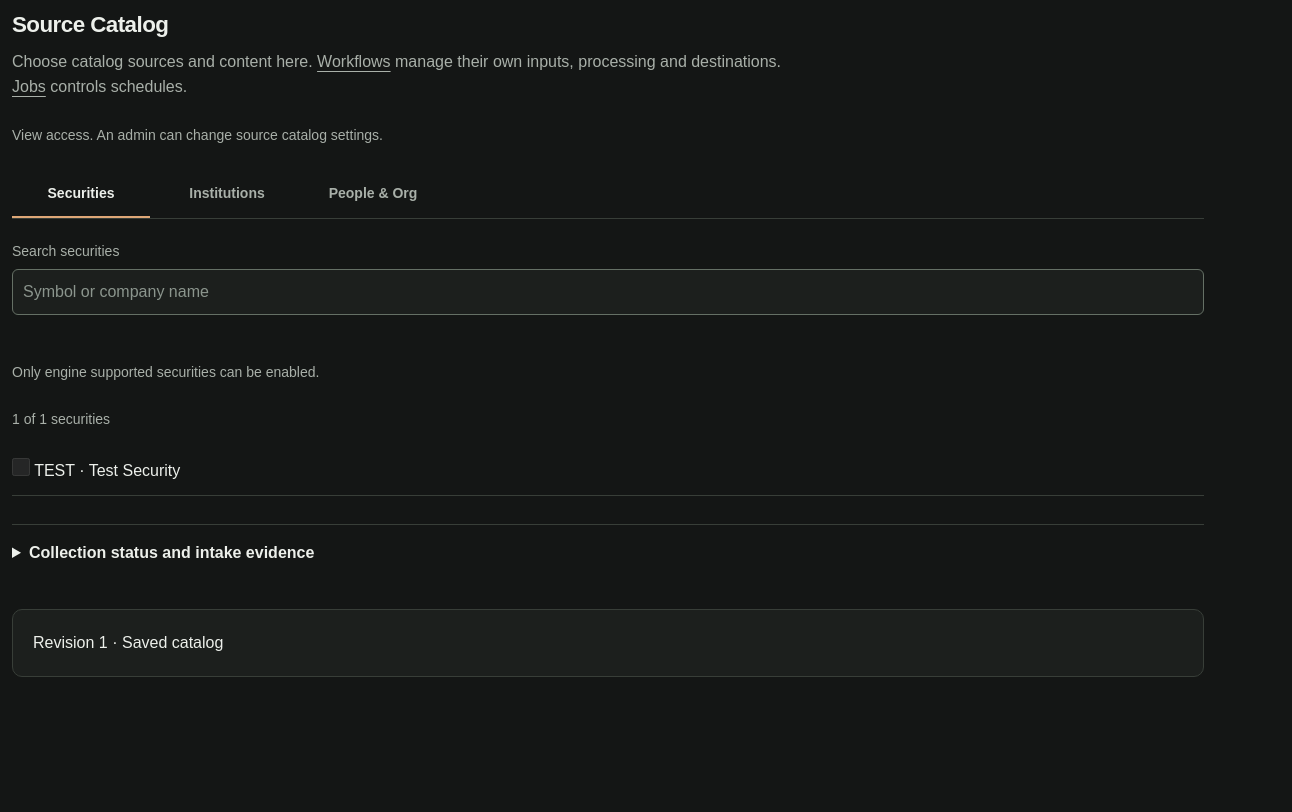
Scenario: SourceCatalogView › renders backend-confirmed viewers without mutation controls
This screenshot has width=1292, height=812.
Expected: the text "View access. An admin can change source catalog settings." is shown, [12,127,383,143]
Expected: the checkbox labelled "TEST · Test Security" is disabled, [12,458,30,476]
Click the tab "People & Org" at (373, 194), box [304,170,442,218]
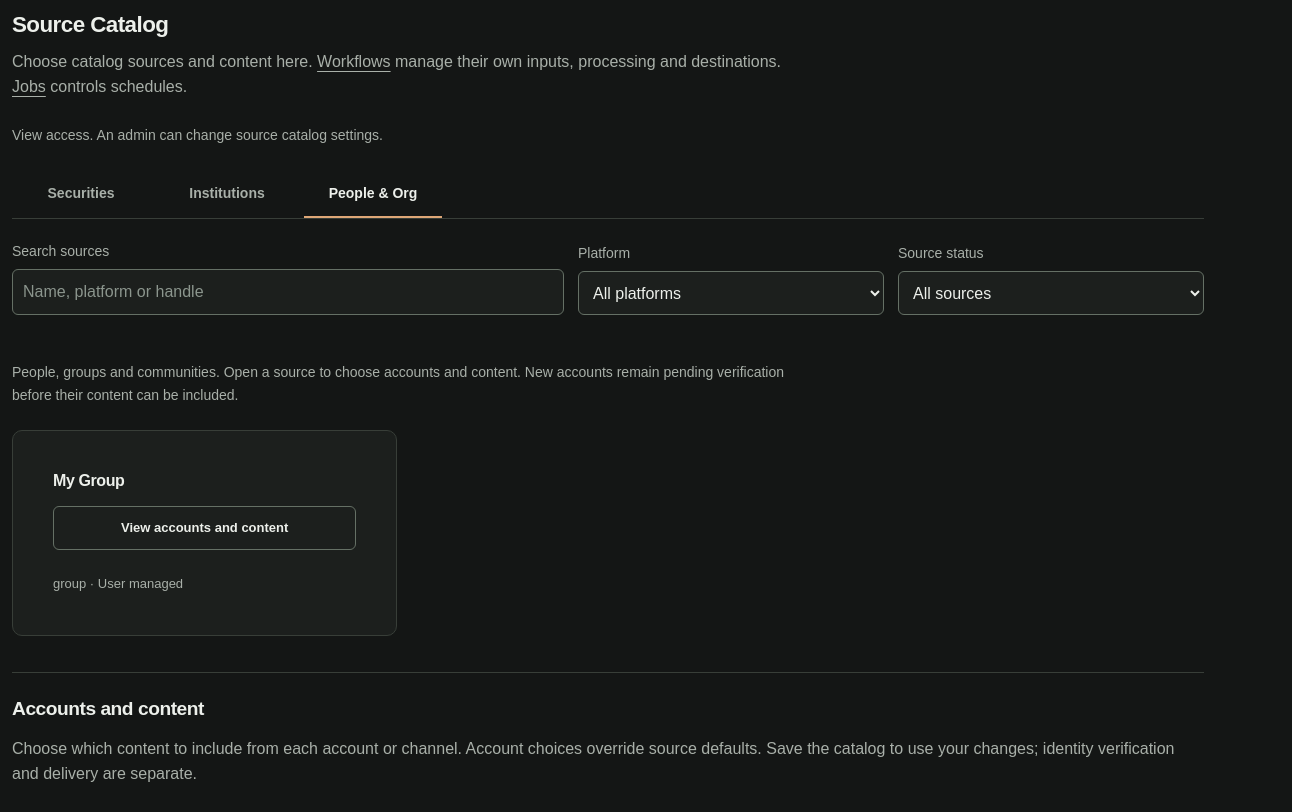
Expected: the heading "My Group" is shown, [53,472,124,489]
